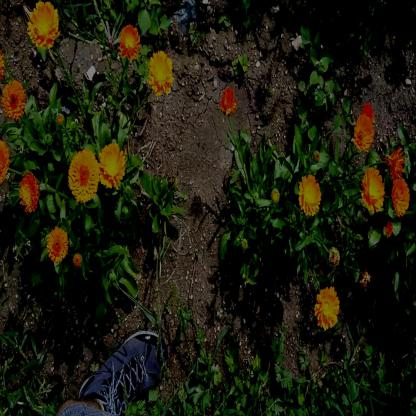marigold: (68, 149, 99, 201), (26, 2, 58, 45), (98, 143, 126, 189), (146, 50, 173, 95), (315, 286, 339, 328), (361, 168, 383, 210), (19, 171, 41, 211), (298, 174, 320, 213), (352, 109, 374, 148), (4, 80, 25, 118), (118, 24, 140, 60), (46, 229, 66, 263), (392, 178, 408, 214), (218, 87, 236, 116), (360, 100, 374, 126)
